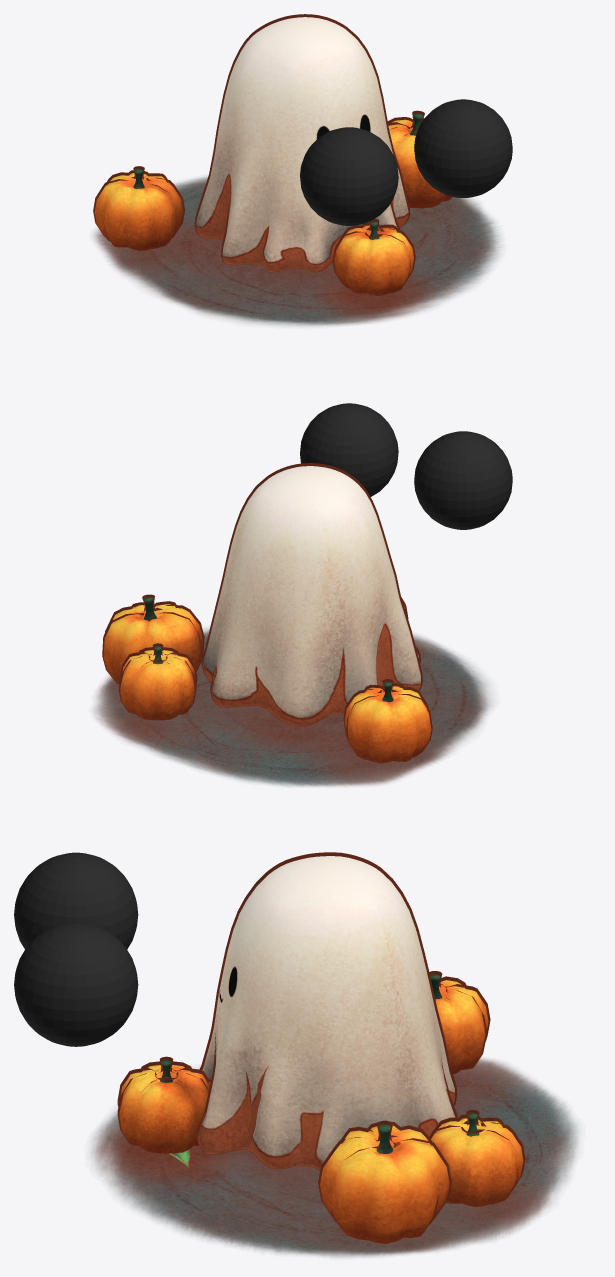
File: owl.glb
The picture shows the model from 3 angles, top to bottom: view 1: azimuth 30°, elevation 25°; view 2: azimuth 150°, elevation 25°; view 3: azimuth 270°, elevation 25°; orthographic projection. The views are drawn at different scales.
Parts seen in each view (by area): view 1: RPG_OwlBase; view 2: RPG_OwlBase; view 3: RPG_OwlBase.
Boxes of the visible parts, x1,y1,x2,y2 form: RPG_OwlBase: (93,14,512,326); RPG_OwlBase: (93,403,512,786); RPG_OwlBase: (14,852,578,1257).
Size of the model in its own units: 0.386 by 0.2288 by 0.425.
5 materials, 2 textured.
